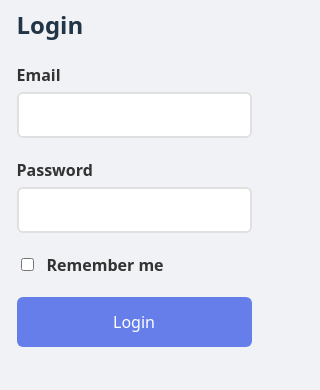
Test: Login form componant test › should show validation error for invalid email
Type "invalid mail" into the field with test id "email-input" at (134, 115), box [16, 92, 252, 138]
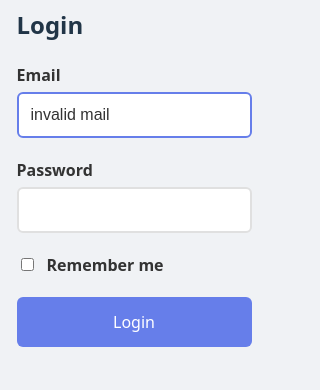
Leave the field with test id "email-input", box [16, 92, 252, 138]
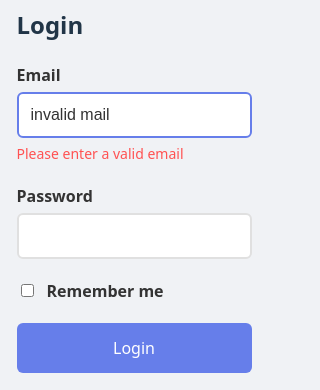
Now the text with test id "email-error" reads "Please enter a valid email", box [16, 144, 184, 163]
